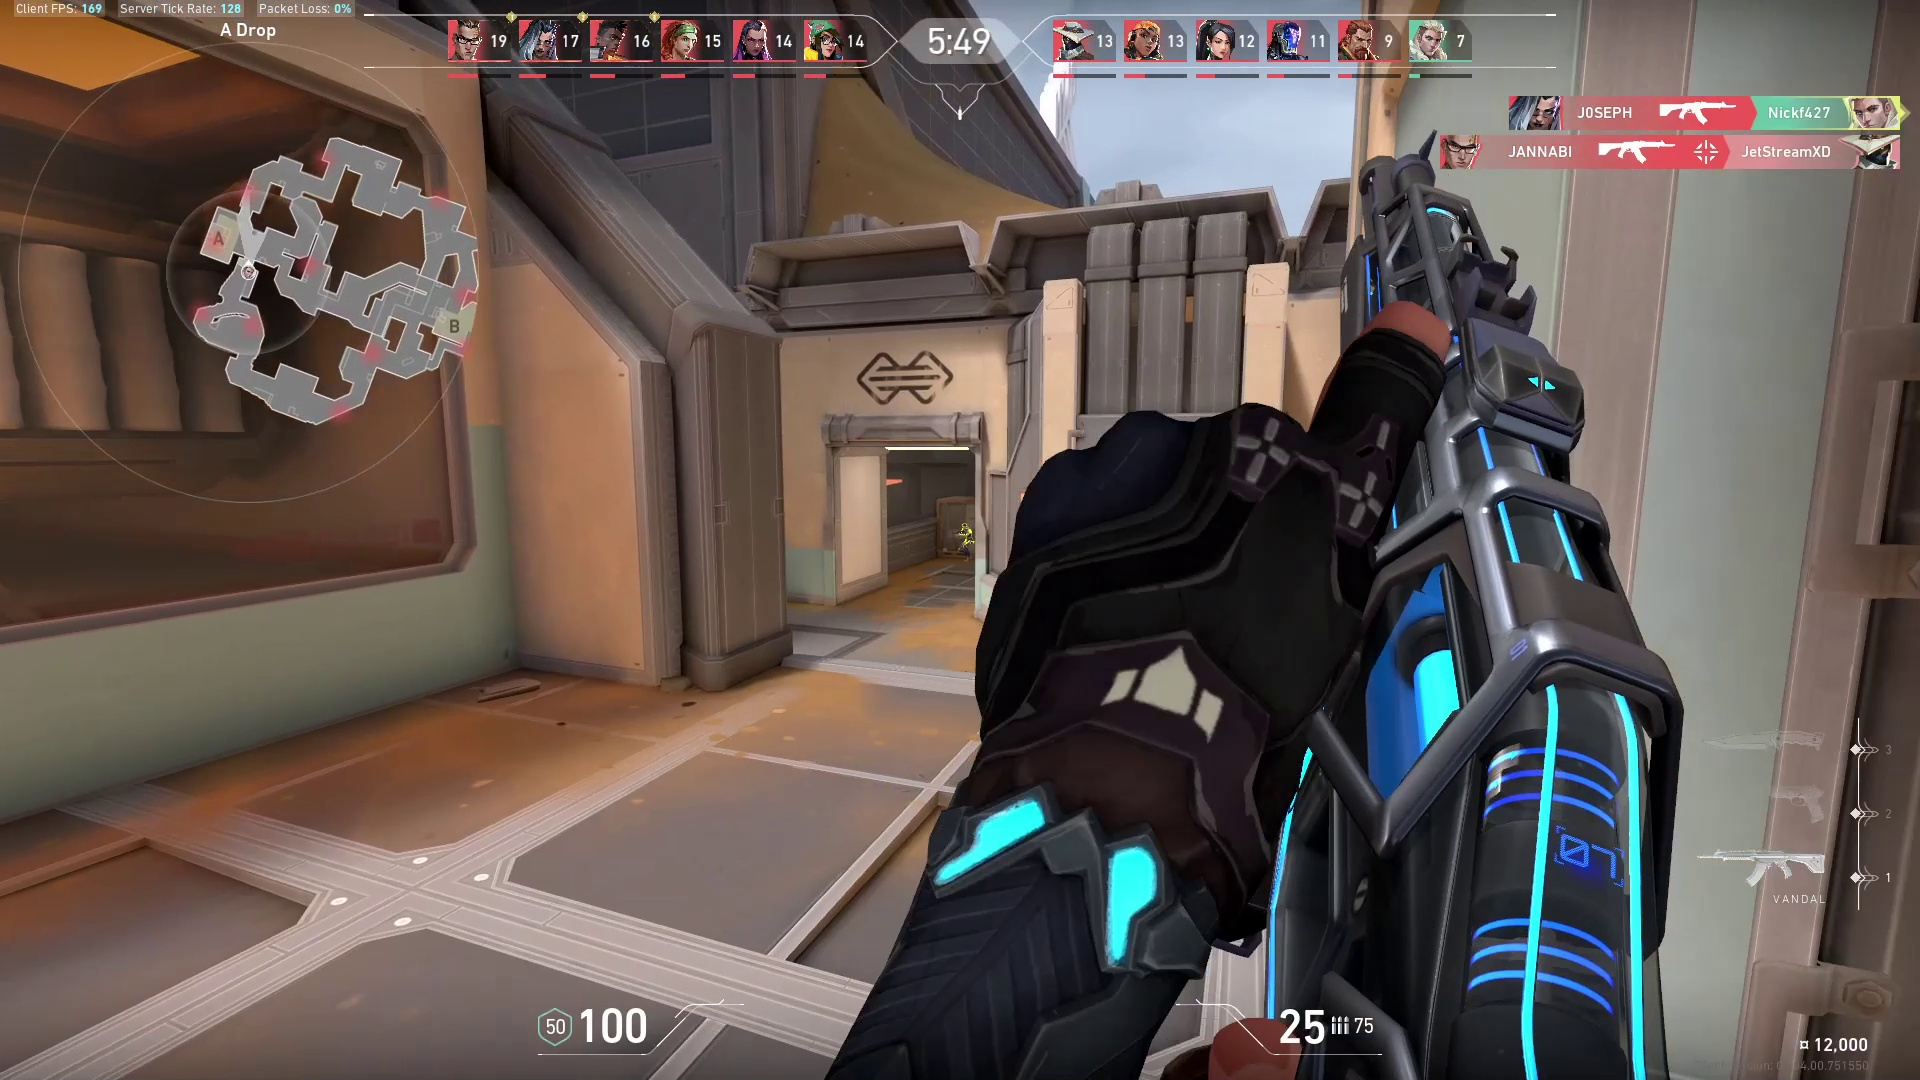enemy_body: (956, 530, 976, 562)
enemy_head: (960, 521, 971, 531)
